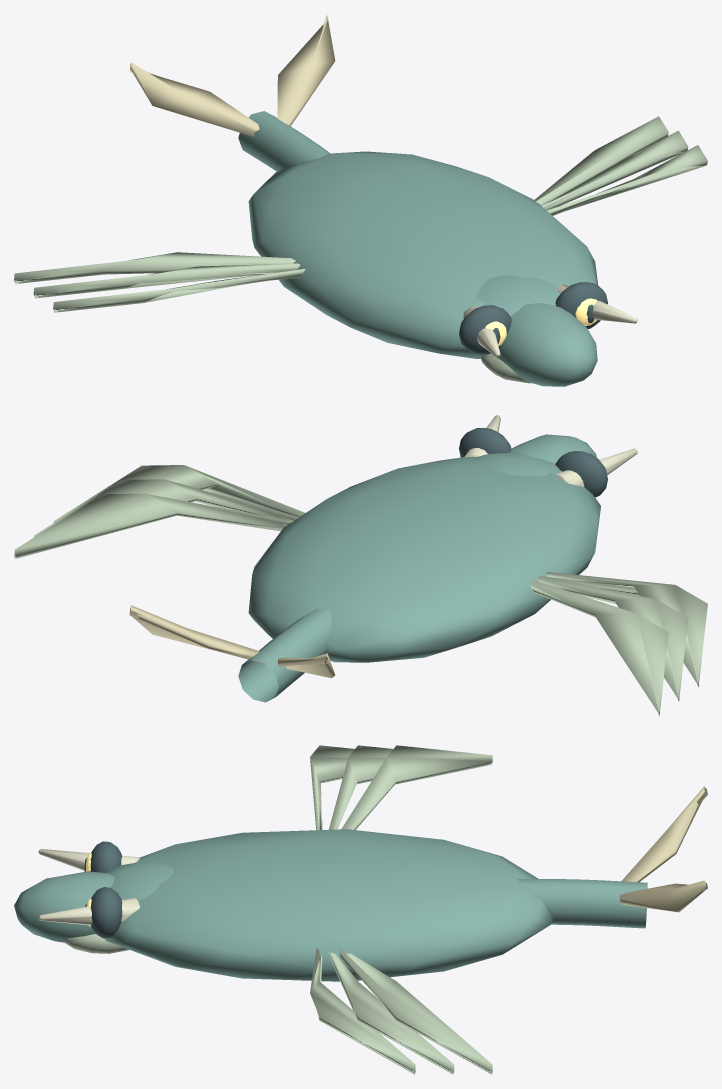
The model's file is bio_ray_10_far.glb.
3 renders of one model, top to bottom at view 1: azimuth 30°, elevation 25°; view 2: azimuth 150°, elevation 25°; view 3: azimuth 270°, elevation 25°, orthographic.
Parts seen in each view (by area): view 1: Hydrodynamic mantle, Flexible fin lobe, Cranium, Flexible fin lobe.003, Caudal fin, Tail stalk, Protected orbit, Forward cheek tine, Lower mandible; view 2: Hydrodynamic mantle, Flexible fin lobe, Flexible fin lobe.003, Tail stalk, Caudal fin, Cranium, Protected orbit, Forward cheek tine; view 3: Hydrodynamic mantle, Flexible fin lobe.003, Flexible fin lobe, Cranium, Tail stalk, Caudal fin, Protected orbit, Forward cheek tine, Lower mandible.
Boxes of the visible parts, x1,y1,x2,y2 form: Hydrodynamic mantle: [248, 151, 597, 358]; Flexible fin lobe: [14, 252, 305, 312]; Cranium: [476, 275, 597, 386]; Flexible fin lobe.003: [534, 116, 707, 215]; Caudal fin: [129, 14, 335, 136]; Tail stalk: [238, 111, 330, 171]; Protected orbit: [459, 282, 607, 354]; Forward cheek tine: [463, 284, 637, 356]; Lower mandible: [481, 353, 531, 383]; Hydrodynamic mantle: [248, 457, 600, 662]; Flexible fin lobe: [530, 572, 707, 716]; Flexible fin lobe.003: [14, 465, 305, 559]; Tail stalk: [238, 609, 332, 702]; Caudal fin: [129, 605, 335, 678]; Cranium: [475, 434, 596, 476]; Protected orbit: [459, 428, 607, 497]; Forward cheek tine: [464, 415, 637, 487]; Hydrodynamic mantle: [104, 829, 553, 981]; Flexible fin lobe.003: [310, 948, 492, 1074]; Flexible fin lobe: [310, 745, 492, 830]; Cranium: [14, 860, 173, 942]; Tail stalk: [517, 879, 647, 928]; Caudal fin: [619, 786, 707, 912]; Protected orbit: [84, 841, 122, 938]; Forward cheek tine: [38, 849, 139, 925]; Lower mandible: [65, 934, 129, 953].
Size of the model in its own units: 3.81 by 0.6648 by 3.61.
